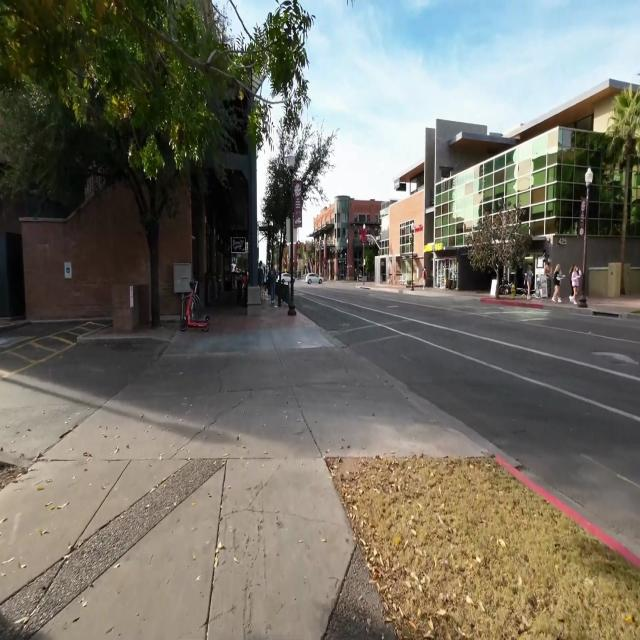road: (296, 284, 640, 568)
side walk: (0, 296, 513, 639)
